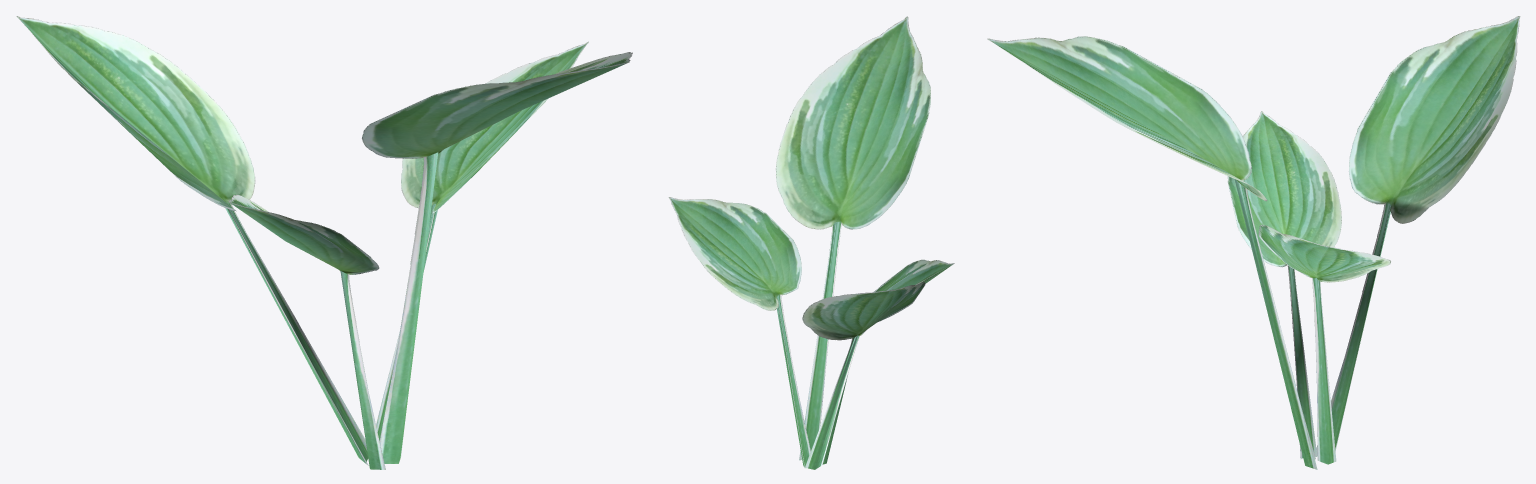
File: plant_small_wg_03Y.fbx
The picture shows the model from 3 angles, left to right: view 1: azimuth 30°, elevation 25°; view 2: azimuth 150°, elevation 25°; view 3: azimuth 270°, elevation 25°; orthographic projection. The views are drawn at different scales.
Parts seen in each view (by area): view 1: plant_small_wg_03Y; view 2: plant_small_wg_03Y; view 3: plant_small_wg_03Y.
Boxes of the visible parts, left/top/right/bottom form: plant_small_wg_03Y: left=16, top=16, right=632, bottom=469; plant_small_wg_03Y: left=668, top=16, right=954, bottom=469; plant_small_wg_03Y: left=987, top=16, right=1520, bottom=469.
Size of the model in its own units: 36.99 by 40.91 by 44.74.
